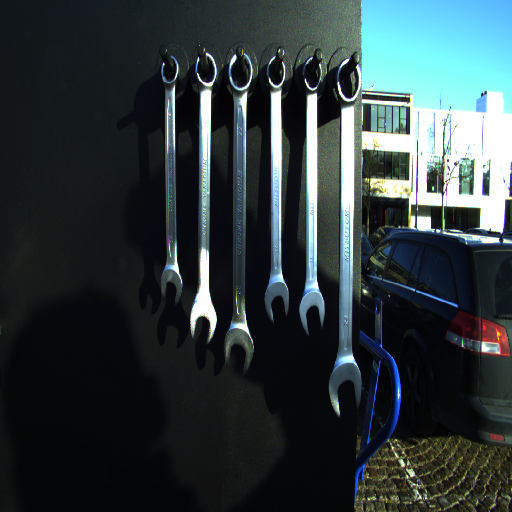bottom: (325, 358, 363, 418), (222, 323, 255, 372), (261, 278, 293, 323), (188, 298, 218, 344), (298, 291, 326, 336), (157, 267, 185, 304)
top: (334, 57, 362, 104), (226, 52, 255, 93), (193, 52, 219, 89), (300, 55, 324, 94), (265, 55, 288, 91), (158, 55, 181, 86)
